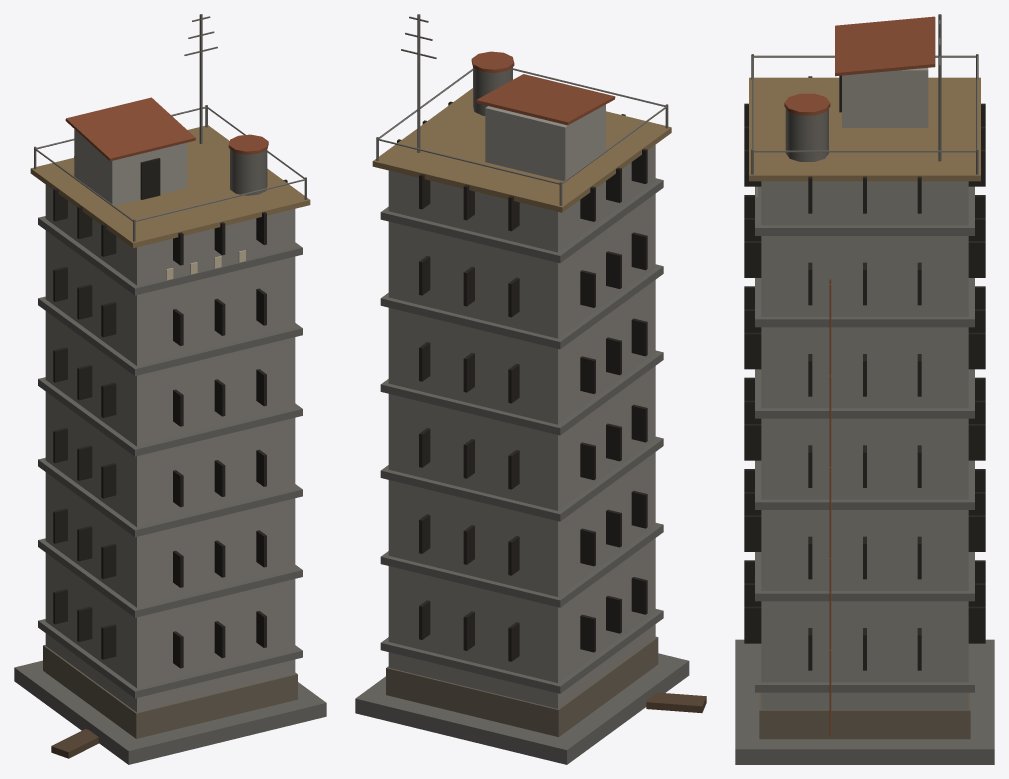
File: V_DrownedTower.glb
3 views of the same model, side by side, from view 1: azimuth 30°, elevation 25°; view 2: azimuth 150°, elevation 25°; view 3: azimuth 270°, elevation 25° (orthographic). The views are drawn at different scales.
Visible parts, largest first — view 1: V_DrownedTower_Structure, V_DrownedTower_Openings, V_DrownedTower_Fixtures, V_DrownedTower_Roof, V_DrownedTower_Foundation, V_DrownedTower_Props; view 2: V_DrownedTower_Structure, V_DrownedTower_Openings, V_DrownedTower_Fixtures, V_DrownedTower_Roof, V_DrownedTower_Foundation, V_DrownedTower_Props; view 3: V_DrownedTower_Structure, V_DrownedTower_Fixtures, V_DrownedTower_Openings, V_DrownedTower_Roof, V_DrownedTower_Foundation, V_DrownedTower_Props.
Part boxes in pixels (bbox=[...]): V_DrownedTower_Structure: bbox=[38, 185, 302, 738]; V_DrownedTower_Openings: bbox=[53, 156, 287, 668]; V_DrownedTower_Fixtures: bbox=[30, 105, 310, 248]; V_DrownedTower_Roof: bbox=[65, 97, 268, 205]; V_DrownedTower_Foundation: bbox=[14, 660, 326, 764]; V_DrownedTower_Props: bbox=[51, 14, 245, 758]; V_DrownedTower_Structure: bbox=[380, 145, 663, 737]; V_DrownedTower_Openings: bbox=[397, 101, 647, 661]; V_DrownedTower_Fixtures: bbox=[372, 68, 671, 212]; V_DrownedTower_Roof: bbox=[471, 51, 615, 181]; V_DrownedTower_Foundation: bbox=[355, 653, 689, 764]; V_DrownedTower_Props: bbox=[401, 14, 706, 713]; V_DrownedTower_Structure: bbox=[755, 181, 974, 739]; V_DrownedTower_Fixtures: bbox=[749, 54, 980, 736]; V_DrownedTower_Openings: bbox=[744, 75, 985, 670]; V_DrownedTower_Roof: bbox=[784, 16, 935, 161]; V_DrownedTower_Foundation: bbox=[735, 639, 994, 764]; V_DrownedTower_Props: bbox=[756, 14, 941, 196].
Bounding box in the file's own units: 11.04 × 28.05 × 9.
